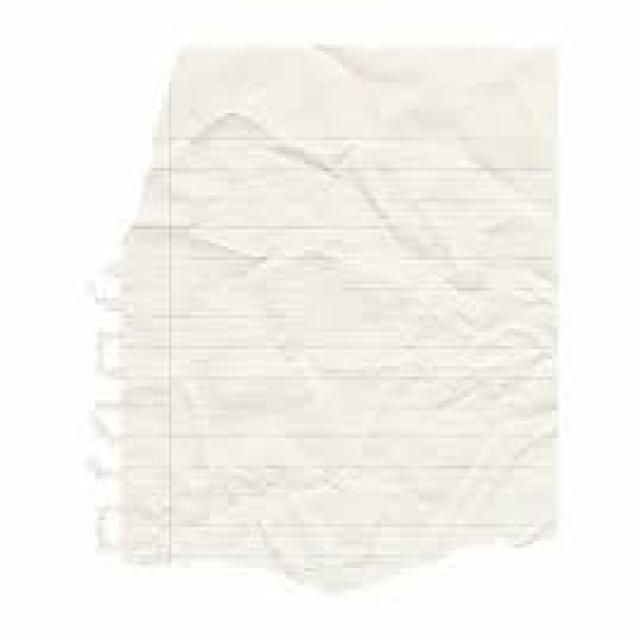paper: (95, 41, 559, 575)
